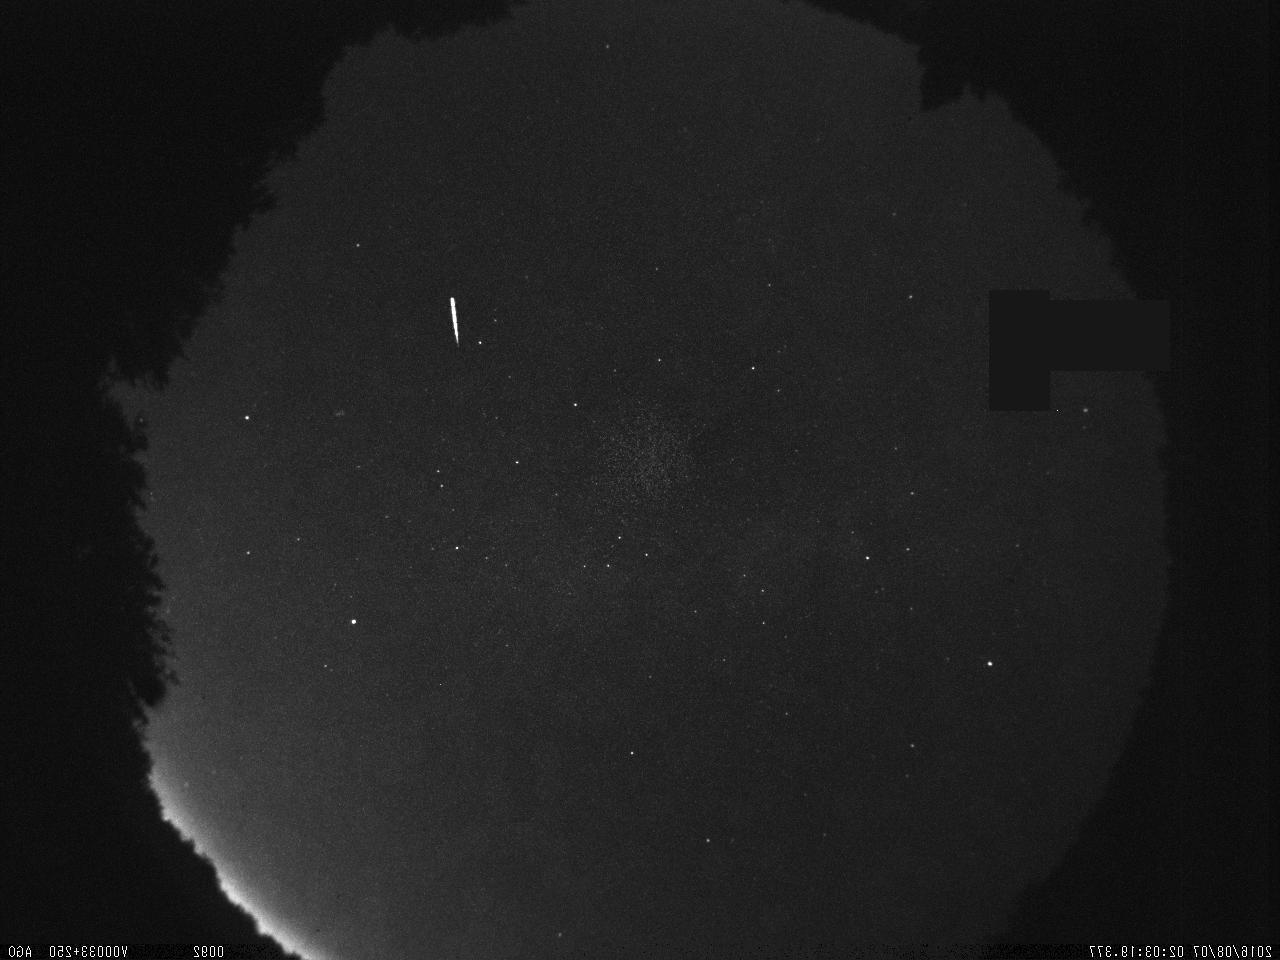meteor: (436, 286, 475, 347)
